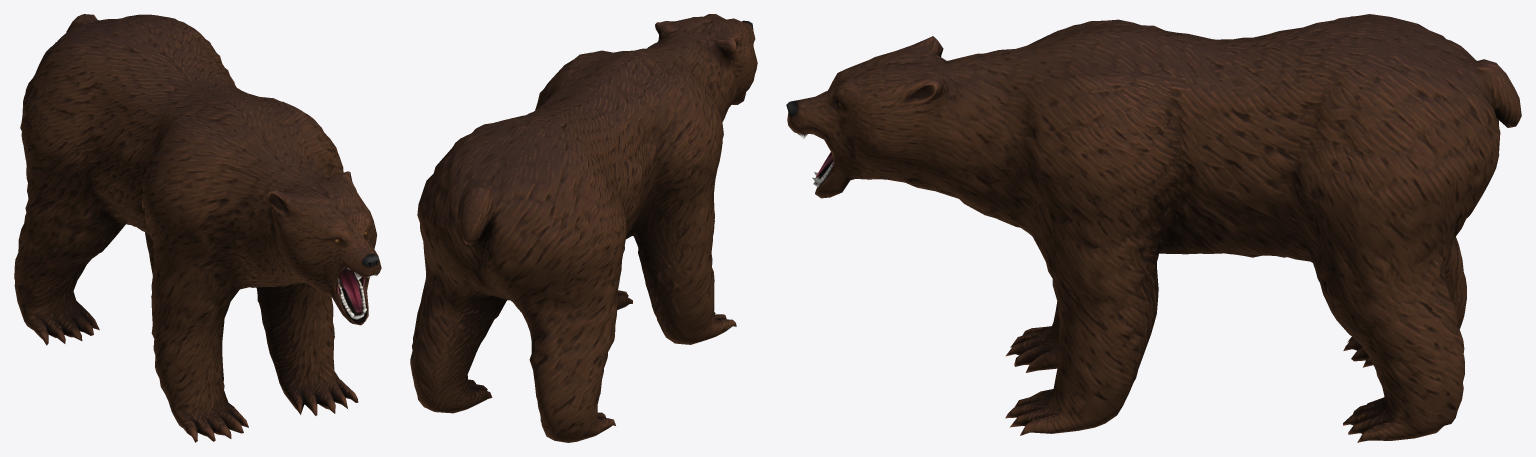
The model's file is MZ4250 - Bear Brown.glb.
The picture shows the model from 3 angles, left to right: view 1: azimuth 30°, elevation 25°; view 2: azimuth 150°, elevation 25°; view 3: azimuth 270°, elevation 25°; orthographic projection. The views are drawn at different scales.
Parts seen in each view (by area): view 1: body_low.001; view 2: body_low.001; view 3: body_low.001.
Part boxes in pixels (x1,y1,x2,y2): body_low.001: [14, 14, 381, 442]; body_low.001: [410, 14, 757, 442]; body_low.001: [786, 14, 1521, 442].
Bounding box in the file's own units: 4.57 × 6.37 × 11.81.
1 material, 1 textured.
